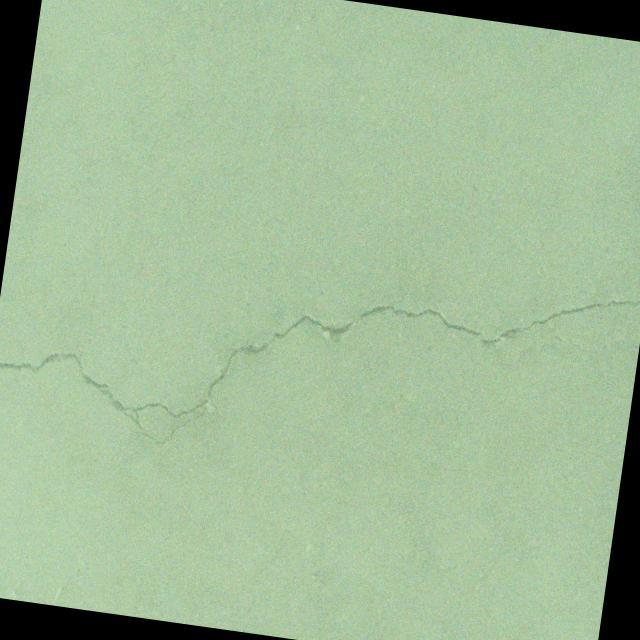crack: (0, 211, 640, 510)
